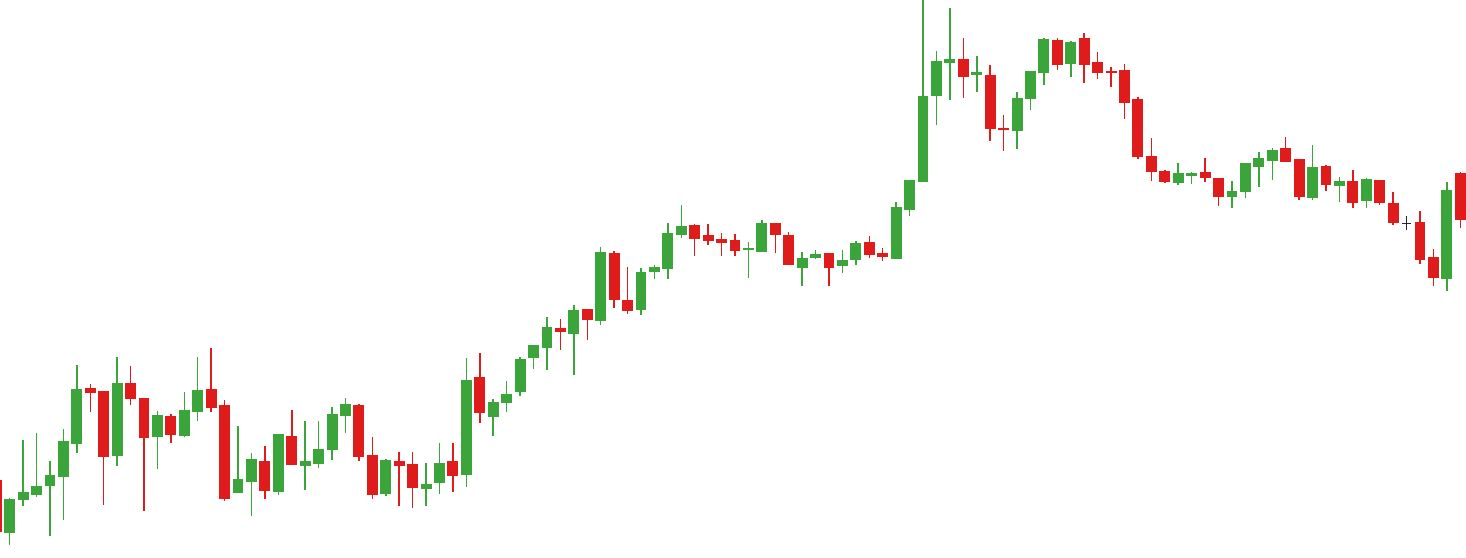buy: (299, 414, 393, 508)
